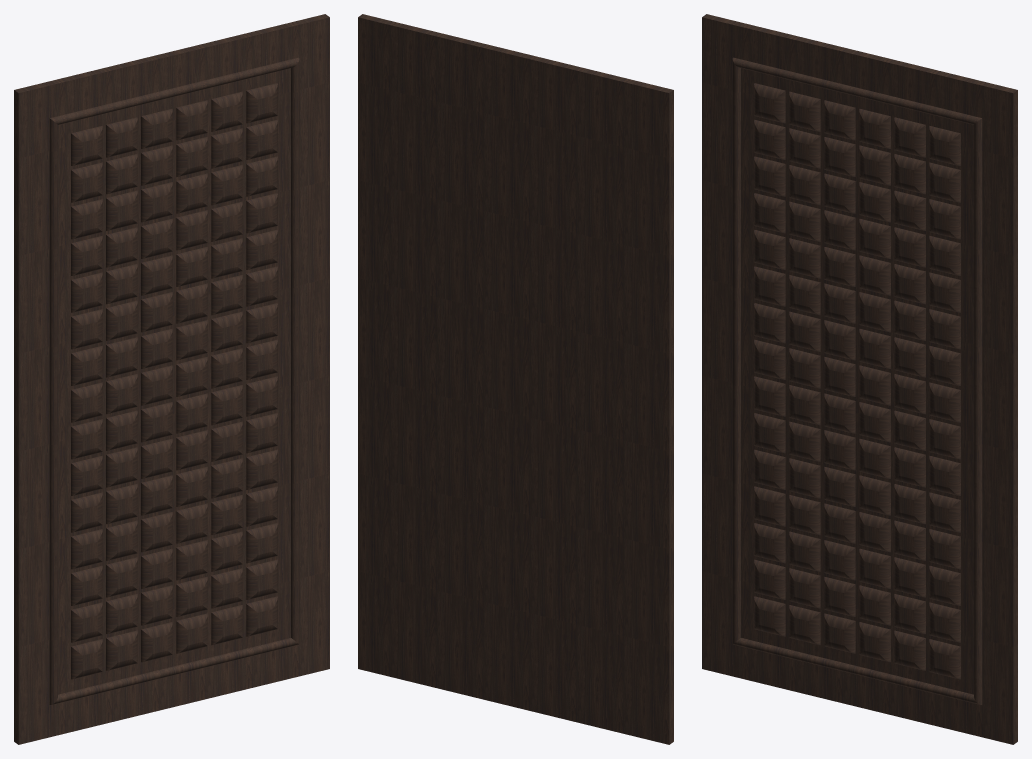
The model's file is board.dae.
3 renders of one model, left to right at view 1: azimuth 30°, elevation 25°; view 2: azimuth 150°, elevation 25°; view 3: azimuth 330°, elevation 25°, orthographic.
Visible parts, largest first — view 1: group_4.043, group_4.042, instance_38.002, instance_98.001, instance_89.001, instance_80.001, instance_65.001, instance_60.001, instance_52.002, instance_46.002, instance_27.002, instance_22.002 (+80 smaller); view 2: group_4.043; view 3: group_4.043, group_4.042, instance_33.002, instance_97.001, instance_87.001, instance_79.001, instance_67.001, instance_61.001, instance_55.003, instance_45.002, instance_30.002, instance_24.002 (+80 smaller).
Boxes of the visible parts, box(x1,y1,x2,y2) form: group_4.043: box(14, 14, 329, 744); group_4.042: box(49, 57, 299, 704); instance_38.002: box(176, 210, 207, 250); instance_98.001: box(71, 602, 102, 642); instance_89.001: box(106, 557, 137, 597); instance_80.001: box(71, 492, 102, 532); instance_65.001: box(246, 376, 277, 416); instance_60.001: box(71, 382, 102, 422); instance_52.002: box(176, 320, 207, 360); instance_46.002: box(246, 266, 277, 306); instance_27.002: box(246, 156, 277, 196); instance_22.002: box(141, 145, 172, 185); group_4.043: box(358, 14, 673, 744); group_4.043: box(702, 14, 1017, 744); group_4.042: box(732, 57, 982, 704); instance_33.002: box(824, 210, 855, 250); instance_97.001: box(929, 602, 960, 642); instance_87.001: box(894, 557, 925, 597); instance_79.001: box(929, 492, 960, 532); instance_67.001: box(754, 376, 785, 416); instance_61.001: box(929, 382, 960, 422); instance_55.003: box(824, 320, 855, 360); instance_45.002: box(754, 266, 785, 306); instance_30.002: box(754, 156, 785, 196); instance_24.002: box(859, 145, 890, 185).
Bounding box in the file's own units: 1.02 × 0.0445 × 2.03.
Materials: 1 (1 with a texture image).
